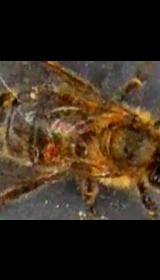varroa_mite: (39, 134, 64, 171)
